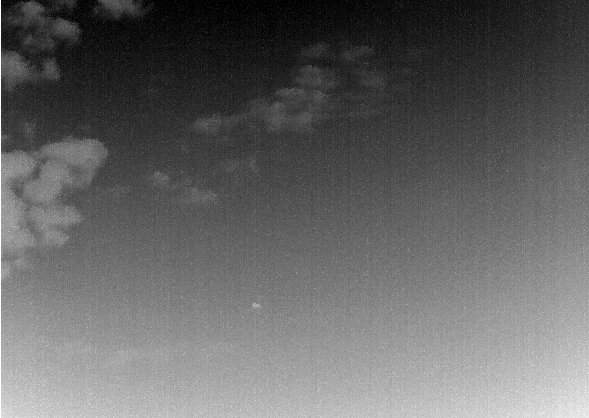dim target: (251, 302, 261, 308)
